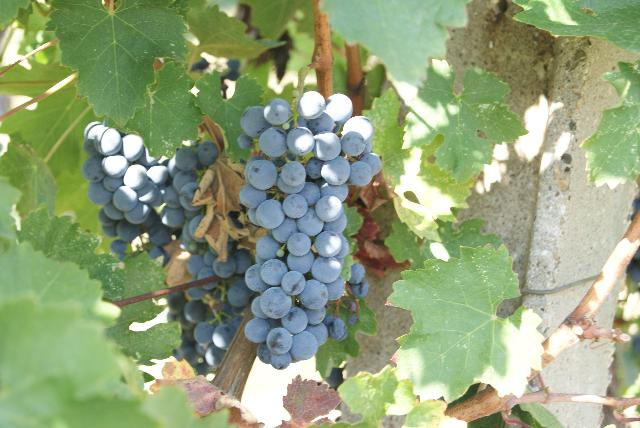grapes: (238, 90, 381, 369), (80, 121, 201, 259)
